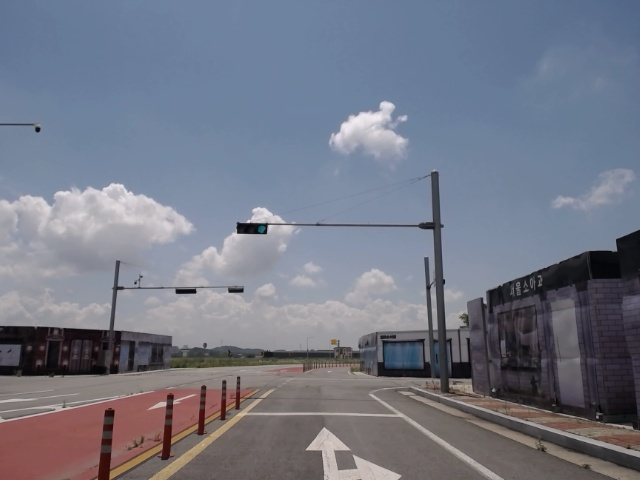green_3: (237, 224, 267, 234)
